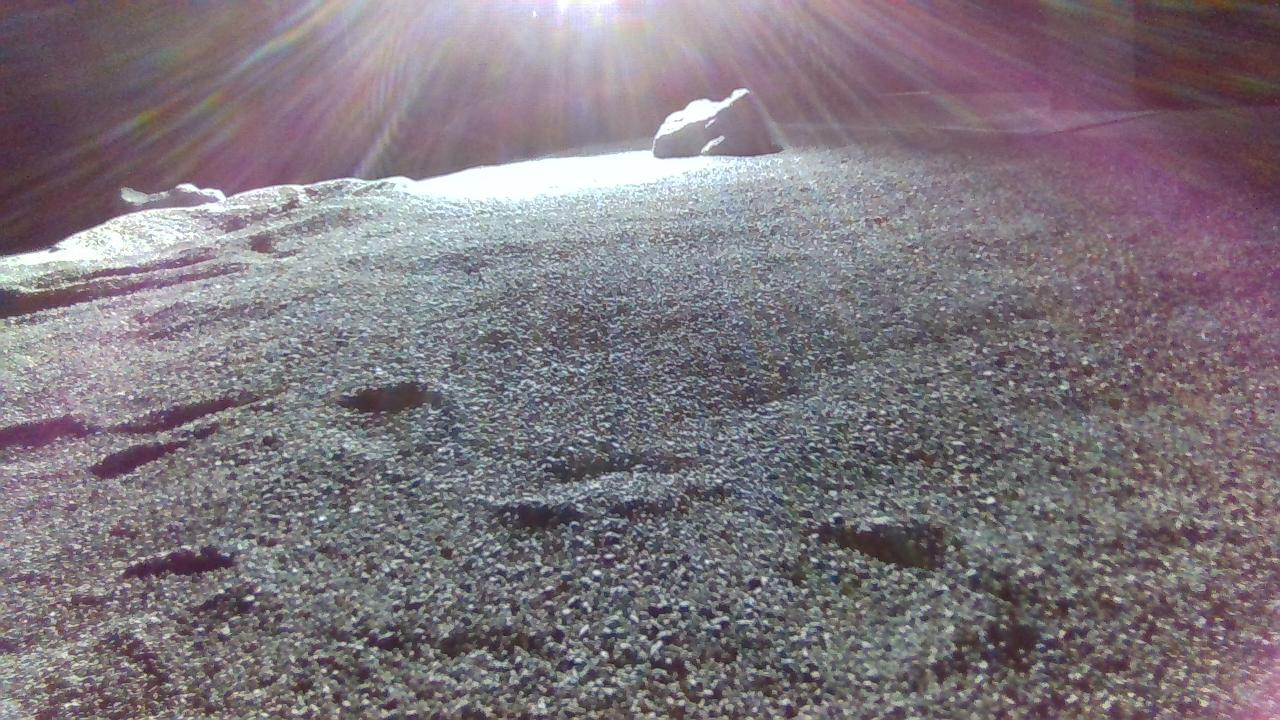rock: (653, 87, 783, 157)
